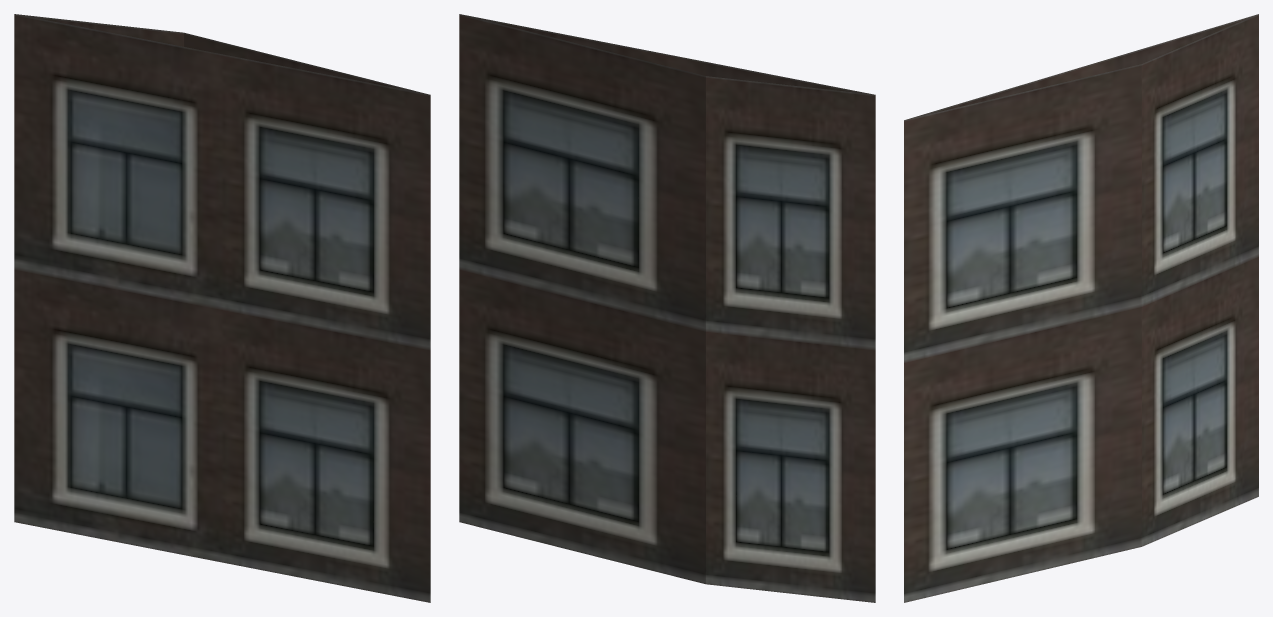
File: ResTex__3474.fbx
The picture shows the model from 3 angles, left to right: view 1: azimuth 30°, elevation 25°; view 2: azimuth 210°, elevation 25°; view 3: azimuth 270°, elevation 25°; orthographic projection. The views are drawn at different scales.
Visible parts, largest first — view 1: CityEngineMaterial_16_m; view 2: CityEngineMaterial_16_m; view 3: CityEngineMaterial_16_m.
Part boxes in pixels (left/top/right/bottom): CityEngineMaterial_16_m: left=14, top=14, right=430, bottom=602; CityEngineMaterial_16_m: left=459, top=14, right=875, bottom=602; CityEngineMaterial_16_m: left=904, top=14, right=1258, bottom=602.
Size of the model in its own units: 2.83 by 6 by 4.
Materials: 1 (1 with a texture image).
